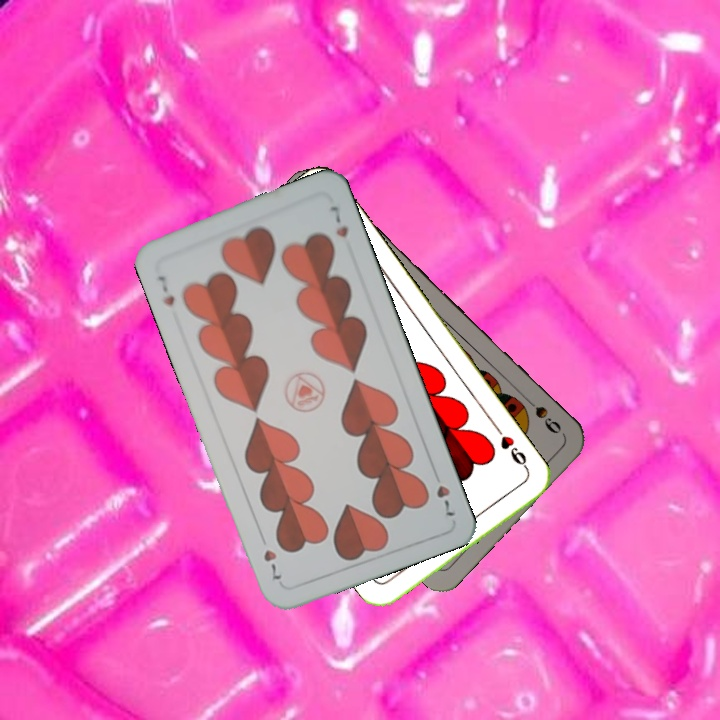H7: (432, 481, 457, 519), (153, 271, 178, 309)
H9: (492, 423, 532, 474)
S9: (518, 391, 565, 437)
